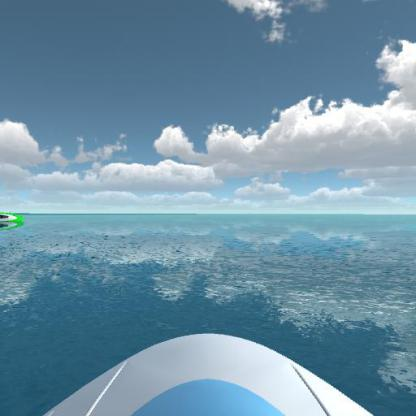usv0: (0, 204, 29, 236)
